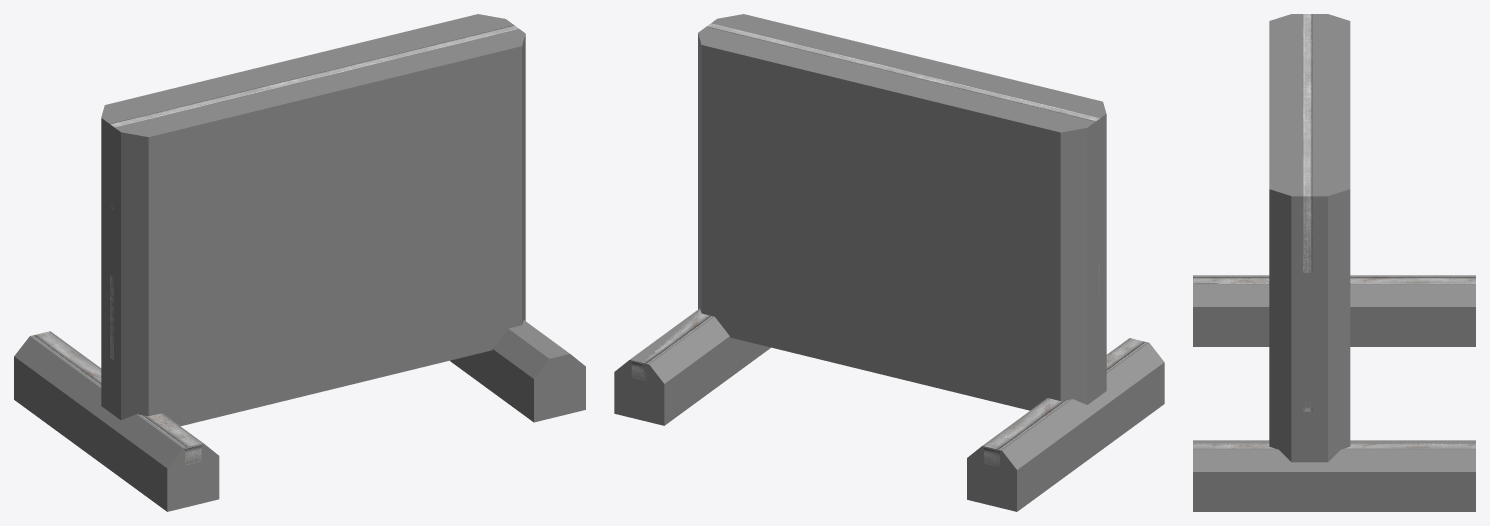
The model's file is construction_sign_big_c.DAE.
The picture shows the model from 3 angles, left to right: view 1: azimuth 30°, elevation 25°; view 2: azimuth 150°, elevation 25°; view 3: azimuth 270°, elevation 25°; orthographic projection. The views are drawn at different scales.
Visible parts, largest first — view 1: colmesh-1, ClosedRoad_sign_big_c200; view 2: colmesh-1, ClosedRoad_sign_big_c200; view 3: colmesh-1, ClosedRoad_sign_big_c200.
Part boxes in pixels (box(x1,y1,x2,y2)): colmesh-1: box(14, 14, 585, 511); ClosedRoad_sign_big_c200: box(32, 25, 519, 465); colmesh-1: box(614, 14, 1164, 511); ClosedRoad_sign_big_c200: box(631, 23, 1146, 466); colmesh-1: box(1193, 14, 1475, 511); ClosedRoad_sign_big_c200: box(1193, 14, 1475, 448).
Bounding box in the file's own units: 2.56 × 1.62 × 1.98.
